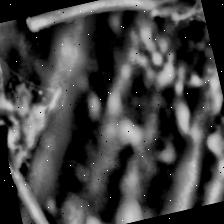Gray Mold: (0, 13, 84, 201)
